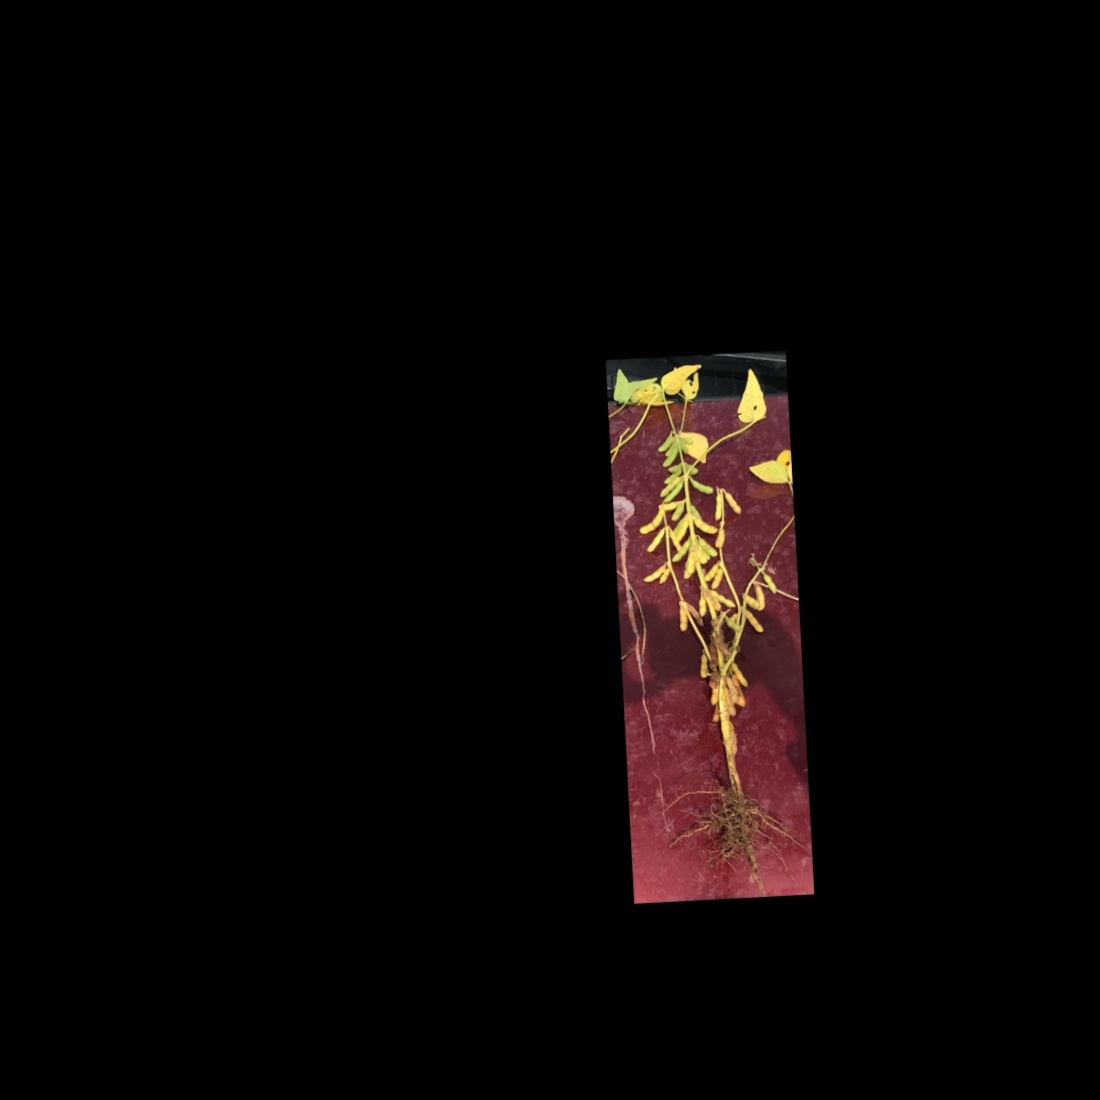pod: (635, 504, 669, 537), (740, 606, 768, 639), (706, 584, 737, 610), (721, 488, 745, 519), (685, 473, 715, 498), (638, 560, 667, 584), (669, 534, 692, 564), (659, 480, 686, 506), (658, 475, 686, 500), (643, 528, 668, 554), (692, 511, 719, 535), (707, 565, 731, 590), (658, 443, 681, 469), (729, 662, 750, 690), (688, 476, 716, 496), (674, 602, 690, 636), (668, 499, 687, 526), (710, 486, 724, 521), (696, 589, 711, 621), (738, 590, 764, 607), (654, 434, 676, 453), (696, 650, 710, 679)
soy: (611, 368, 801, 881)
